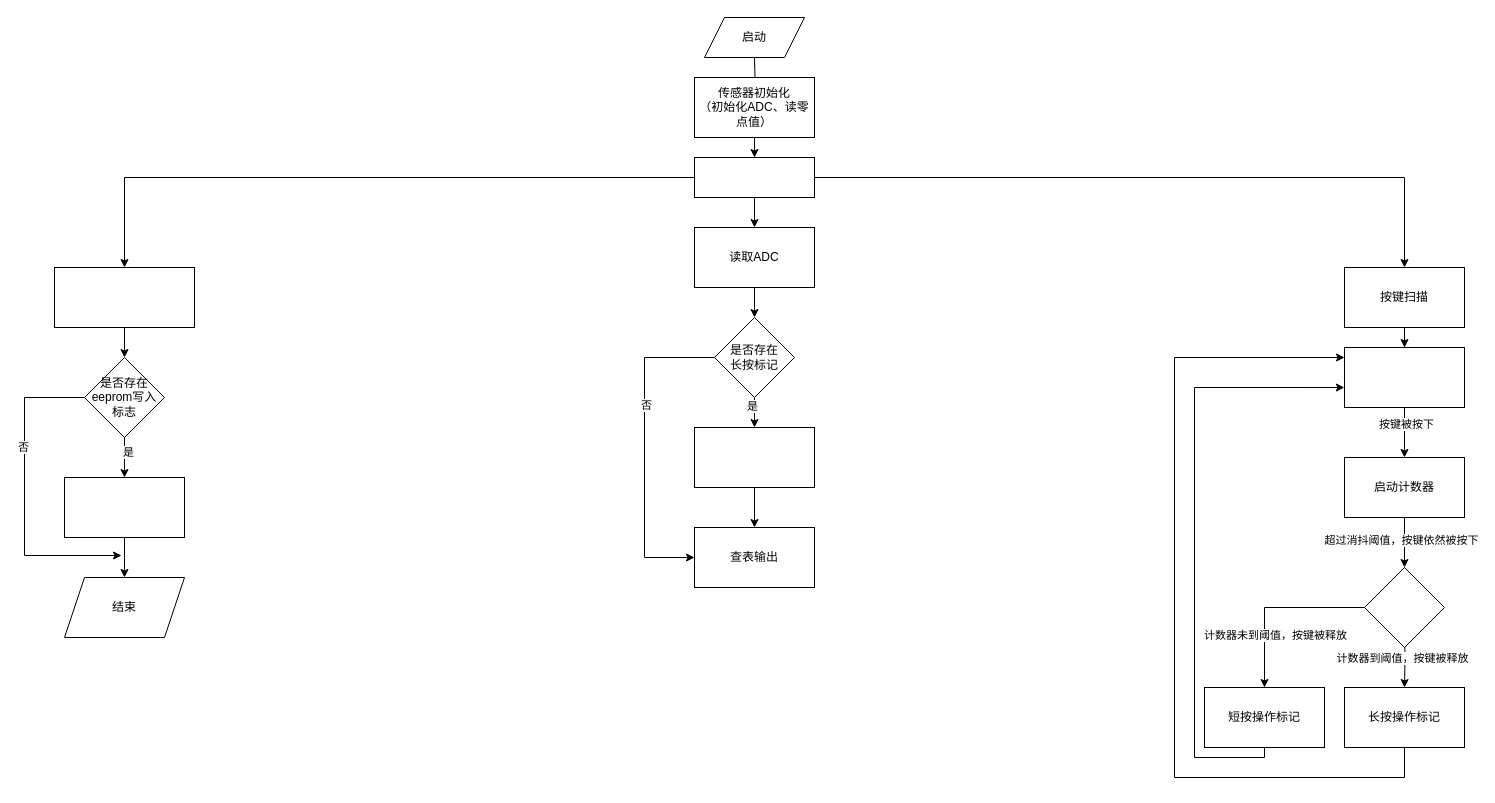
Image size: 1495x803. Some labels were removed from this diagram. Here are the shapes that lost their labels. From the top down, the centre of each, then its label:
[754,177]: 调度器启动
[124,297]: 指示灯状态
[1404,377]: 空闲
[754,457]: 立即读取adc，按照此时adc电压作为零点电压。挂起eeprom写入标志
[124,507]: 在eeprom被写完成后，闪烁指示灯
[1404,607]: 过渡态
